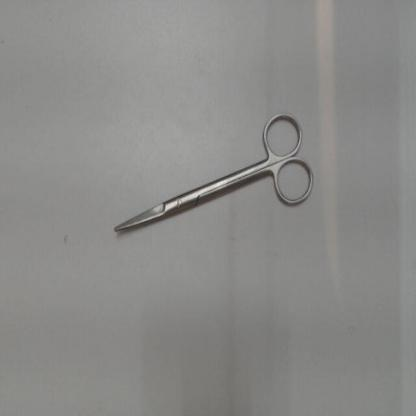Curved Mayo Scissors: (111, 104, 319, 237)
